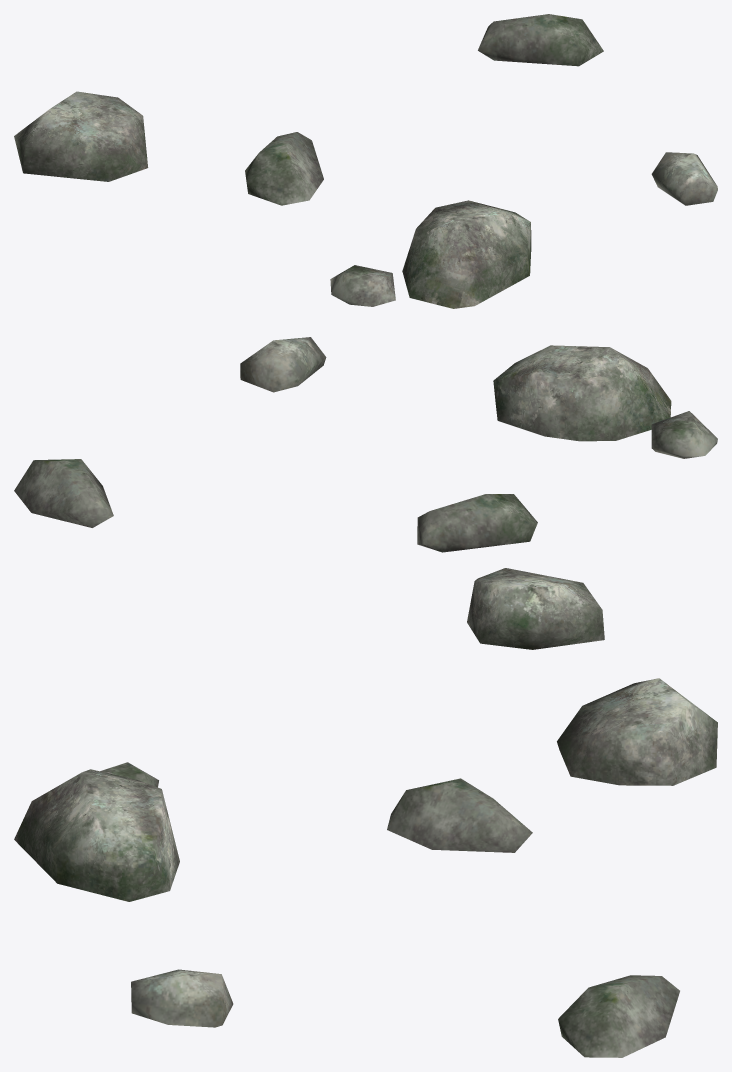
The model's file is RockSmall2.fbx.
The picture shows the model from 3 angles, top to bottom: view 1: azimuth 30°, elevation 25°; view 2: azimuth 150°, elevation 25°; view 3: azimuth 270°, elevation 25°; orthographic projection. The views are drawn at different scales.
Visible parts, largest first — view 1: SM_cmn_mount_Stone_01b; view 2: SM_cmn_mount_Stone_01b; view 3: SM_cmn_mount_Stone_01b.
Part boxes in pixels (box(x1,y1,x2,y2)): SM_cmn_mount_Stone_01b: box(14, 14, 717, 308); SM_cmn_mount_Stone_01b: box(14, 337, 717, 649); SM_cmn_mount_Stone_01b: box(14, 678, 717, 1057).
Size of the model in its own units: 88.76 by 9.18 by 77.28.
